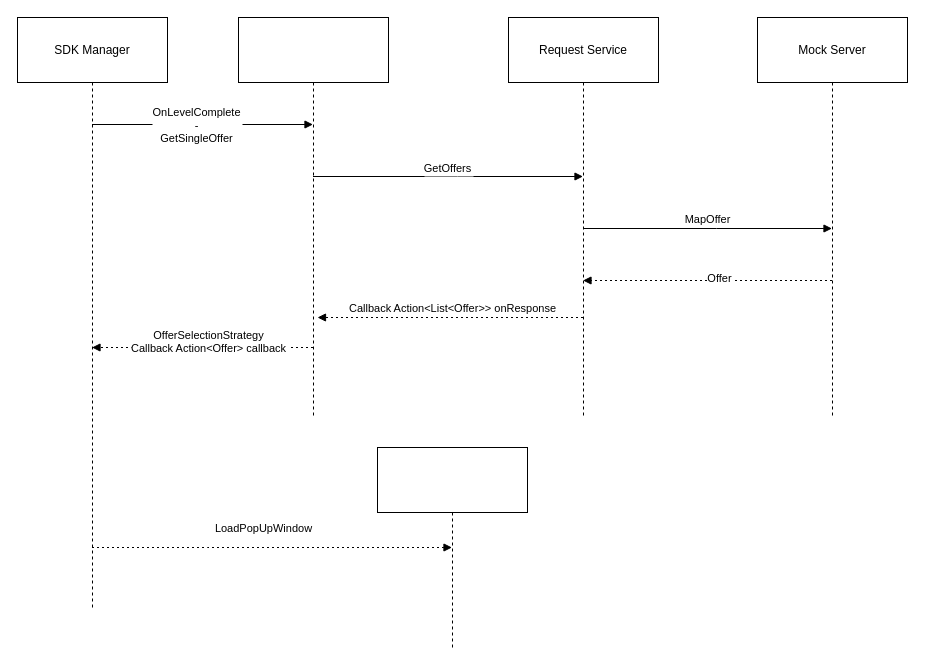
Image size: 925x665. Some labels were removed from this diagram. Each missing label, with the box of its shape:
Offer System: (238, 16, 388, 418)
UI Manager / Client: (376, 446, 528, 648)
